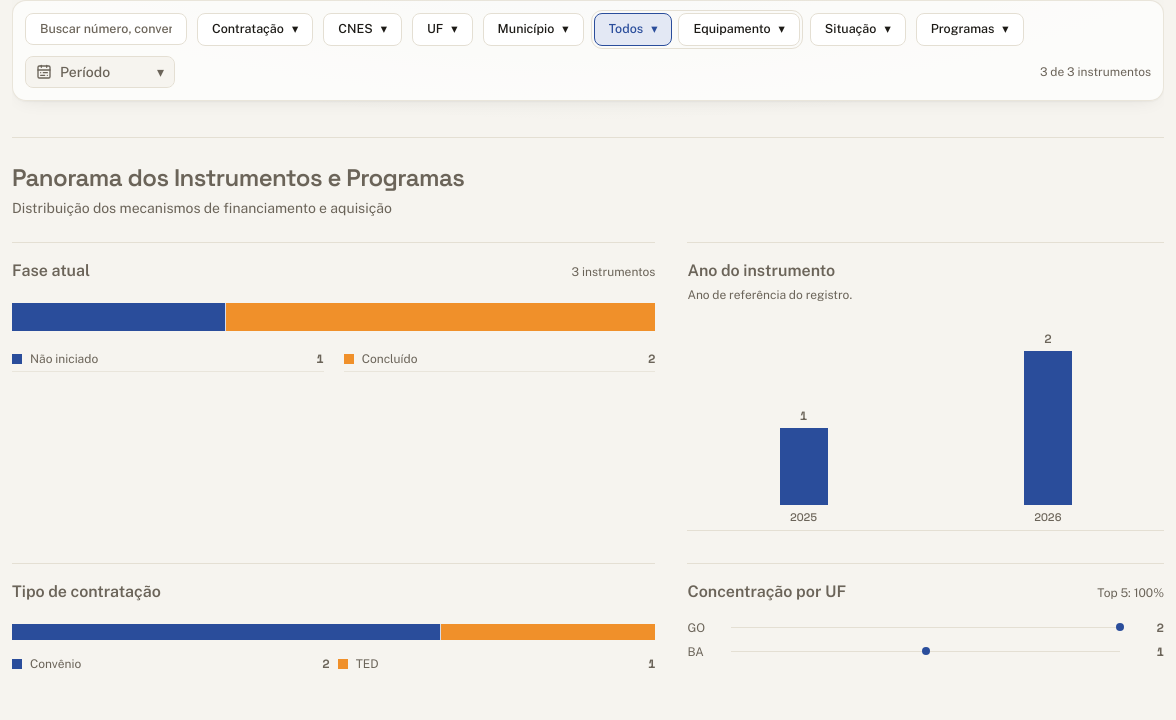
Test: Panorama do painel com dados e filtros reais › recalcula os gráficos ao selecionar município agrupado e restaura ao limpar
Expected: the picture named "2025: 1; 2026: 2" is shown, x1=687 y1=323 x2=1164 y2=531
Click the button "Município ▾" at (533, 29), box x1=483 y1=13 x2=584 y2=46
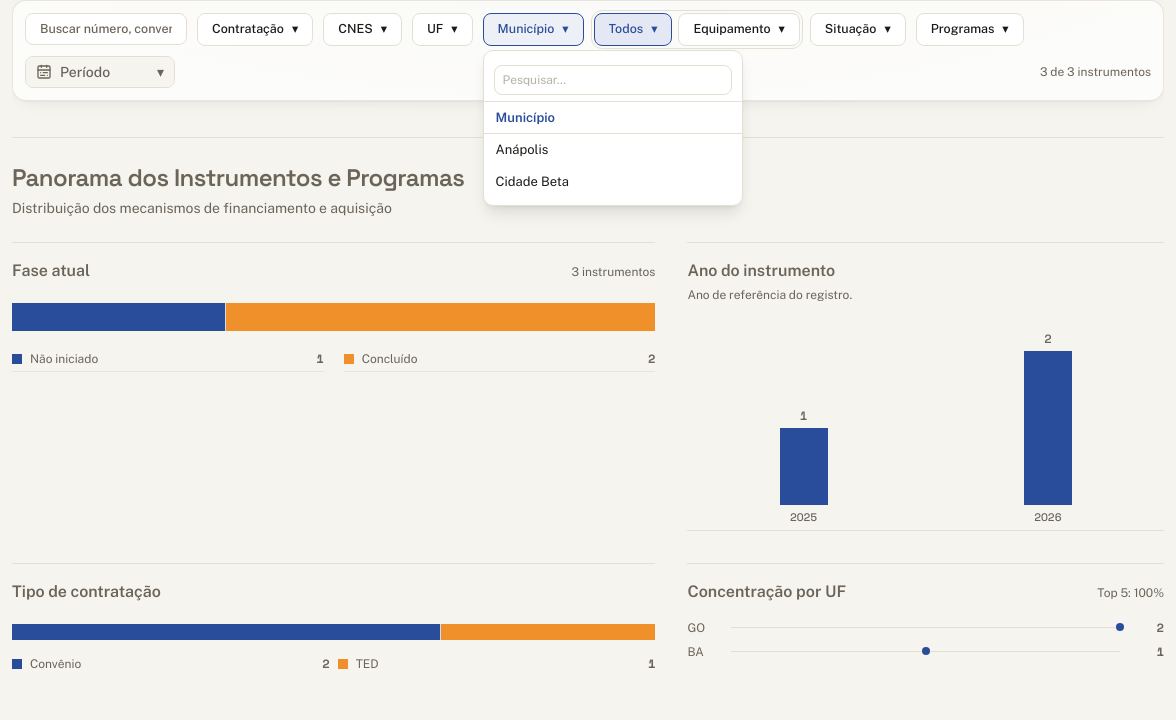
Click the option "Anápolis" at (613, 150), box x1=484 y1=134 x2=742 y2=166
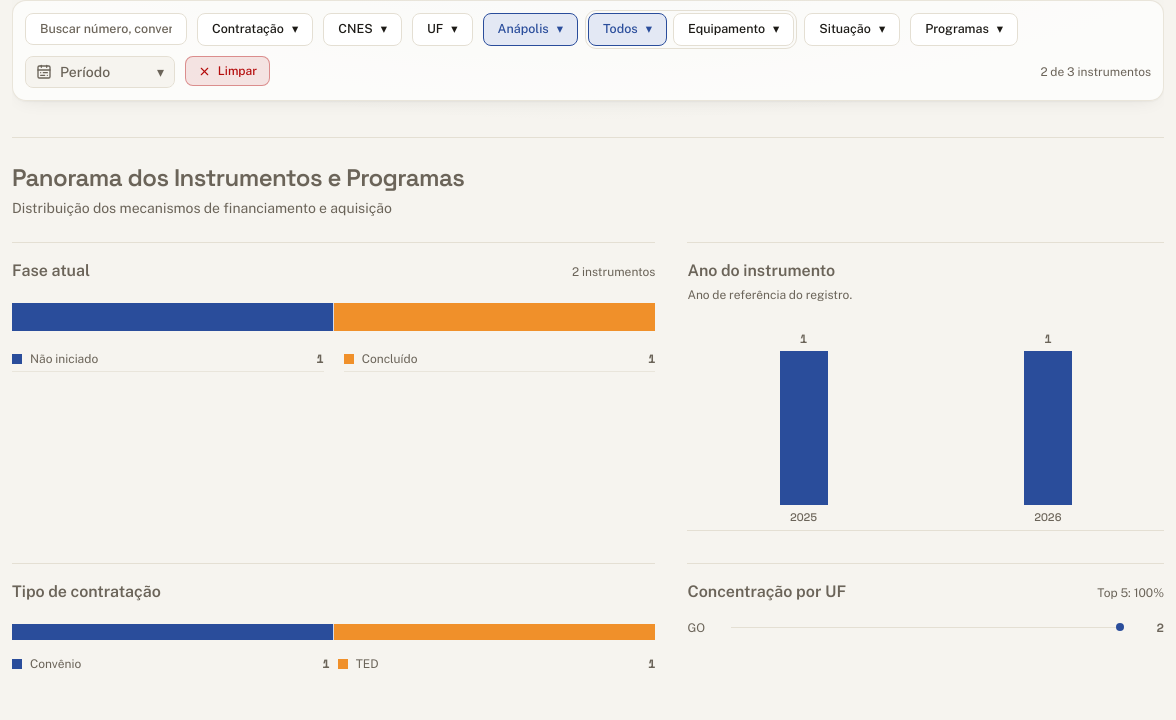
Result: the text "2 de 3 instrumentos" is shown at x1=1040 y1=65 x2=1151 y2=79
Result: the text "2 instrumentos" is shown at x1=572 y1=264 x2=655 y2=280
Result: the picture named "Não iniciado: 1; Concluído: 1" is shown at x1=12 y1=303 x2=655 y2=331
Click the button with aria-label "Limpar filtros" at (227, 71), box x1=185 y1=56 x2=270 y2=86
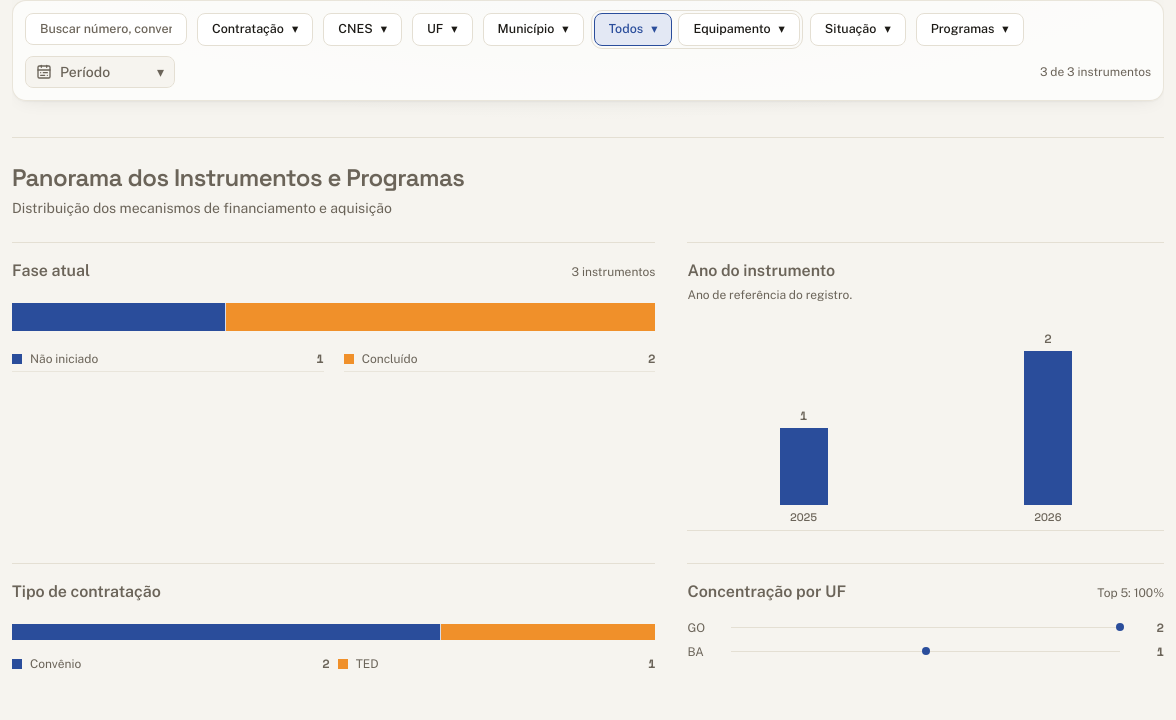
Result: the picture named "2025: 1; 2026: 2" is shown at x1=687 y1=323 x2=1164 y2=531
Result: the text "3 instrumentos" is shown at x1=572 y1=264 x2=655 y2=280
